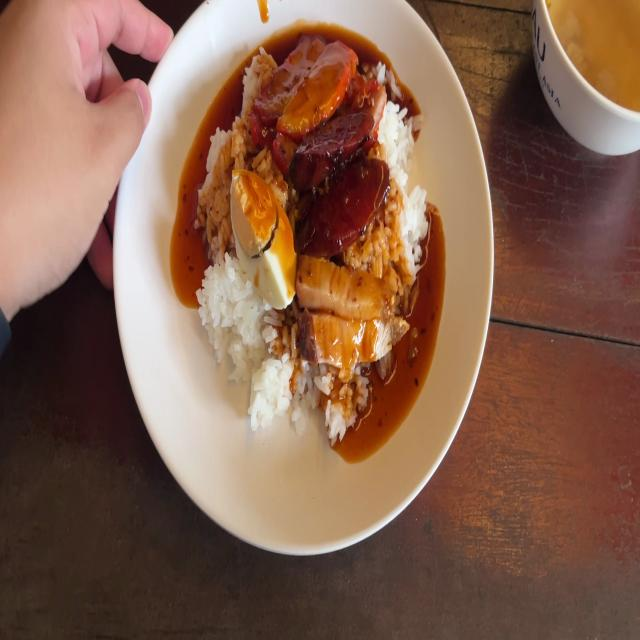01boiled_egg: (234, 168, 295, 308)
01chainese_sausage: (293, 113, 390, 249), (299, 166, 393, 247), (294, 111, 374, 192)
01crispy_pork: (300, 251, 406, 365), (296, 249, 408, 312), (301, 310, 412, 370)
01red_pork: (262, 32, 346, 138), (284, 38, 352, 136), (267, 32, 307, 95)
01red_pork_and_crispy_pork: (197, 41, 429, 432)
01rice: (247, 346, 371, 434), (376, 95, 429, 250), (202, 258, 261, 385), (196, 117, 230, 246), (237, 43, 277, 129)
